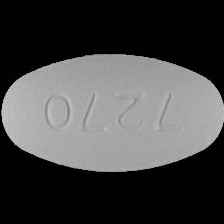0615-7740: (0, 0, 224, 224)
